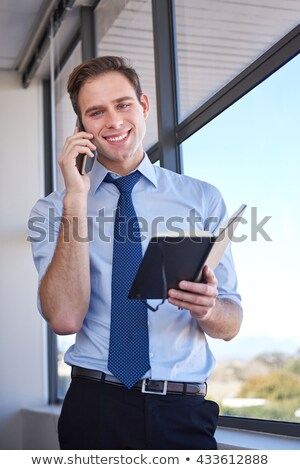phone: (61, 110, 103, 177)
talk: (54, 89, 146, 181)
